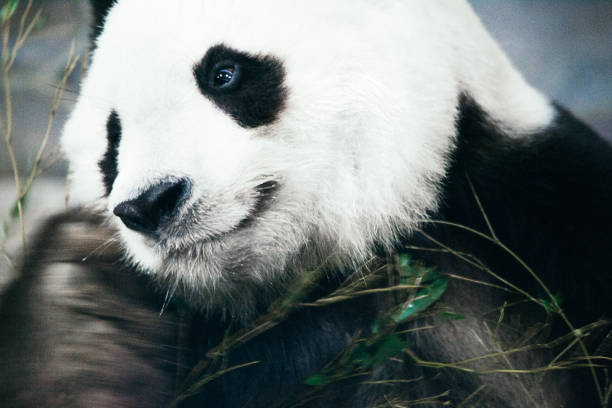panda: (57, 4, 560, 343)
